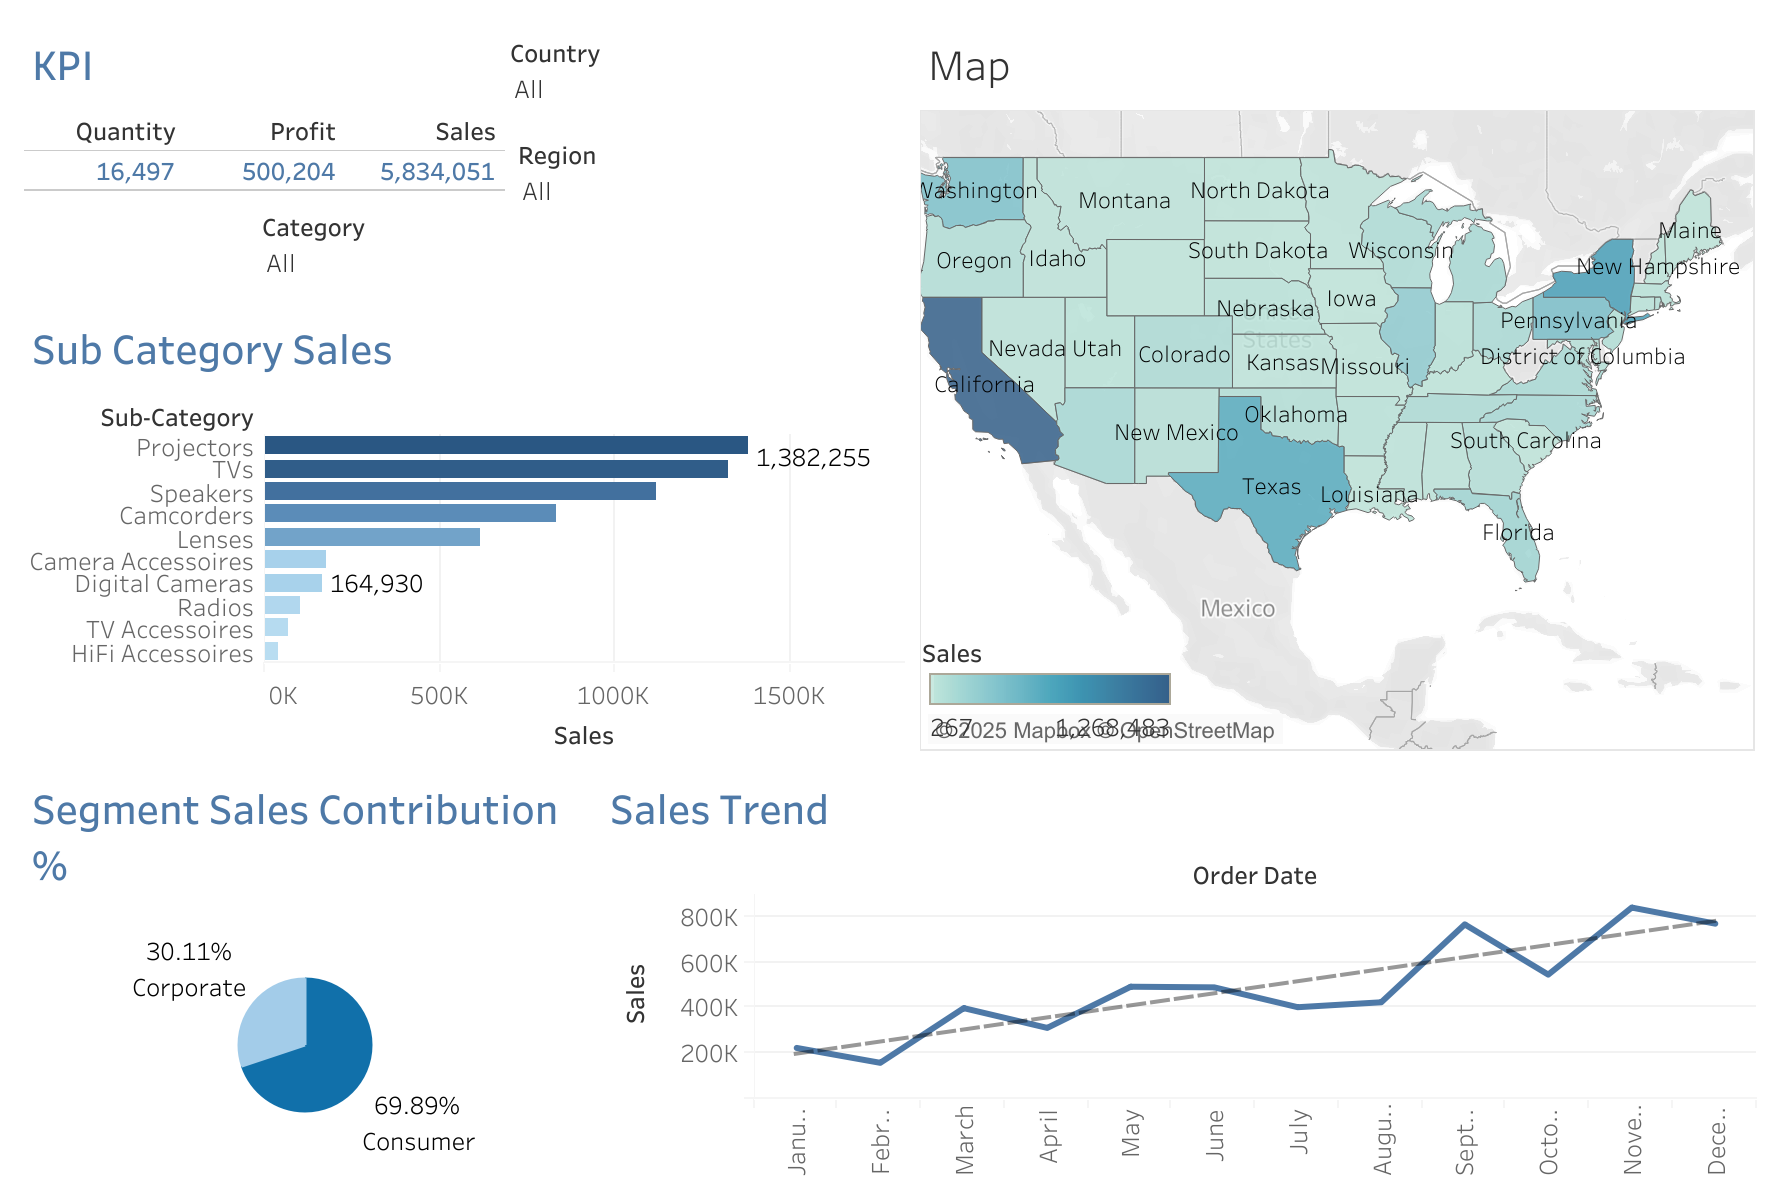

Layout of this report page (visuals, bound fields, positions):
{"tool":"tableau","page":{"name":"Dashboard 1","canvas":[1000,1000],"units":"permille","ordinal":0},"visuals":[{"type":"worksheet","title":"KPI","mark":"Automatic","box":[7.2,13.8,504.9,236.2]},{"type":"worksheet","title":"Map","mark":"Automatic","box":[512.2,13.8,480.6,617.2]},{"type":"filter","title":"Map","param":"[federated.15m4wvf1f2aagc179eg1407pvla7].[none:Country:nk]","box":[286.7,25.9,139.8,82.8]},{"type":"filter","title":"Map","param":"[federated.15m4wvf1f2aagc179eg1407pvla7].[none:Region:nk]","box":[291.2,112.1,133.4,86.2]},{"type":"filter","title":"Map","param":"[federated.15m4wvf1f2aagc179eg1407pvla7].[none:Category:nk]","box":[147,170.7,133.4,86.2]},{"type":"worksheet","title":"SubCategorySales","mark":"Automatic","rows":["Sub-Category"],"cols":["Sales"],"box":[7.2,250,504.9,381]},{"type":"legend","title":"Map","param":"[federated.15m4wvf1f2aagc179eg1407pvla7].[sum:Sales:qk]","box":[518.5,520.7,144.3,98.3]},{"type":"worksheet","title":"Segments Sales %","mark":"Pie","box":[7.2,631,325.5,355.2]},{"type":"worksheet","title":"Sales Trends","mark":"Automatic","rows":["Sales"],"cols":["Order Date"],"box":[332.7,631,660.1,355.2]}]}

Visuals, with their boxes on the dashboard's canvas, which has no fixed pixel size, in thousandths of its width and height (x1, y1, x2, y2). These are canvas units, not pixel positions in the 1778x1202 screenshot, which may show the page scaled, cropped or inside an application window:
"KPI" worksheet: detection(7, 14, 512, 250)
"Map" worksheet: detection(512, 14, 993, 631)
"Map" filter: detection(287, 26, 426, 109)
"Map" filter: detection(291, 112, 425, 198)
"Map" filter: detection(147, 171, 280, 257)
"SubCategorySales" worksheet: detection(7, 250, 512, 631)
"Map" legend: detection(518, 521, 663, 619)
"Segments Sales %" worksheet (Pie marks): detection(7, 631, 333, 986)
"Sales Trends" worksheet: detection(333, 631, 993, 986)
